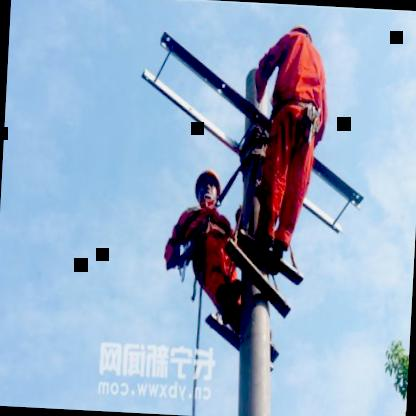helmet: (192, 163, 223, 216)
